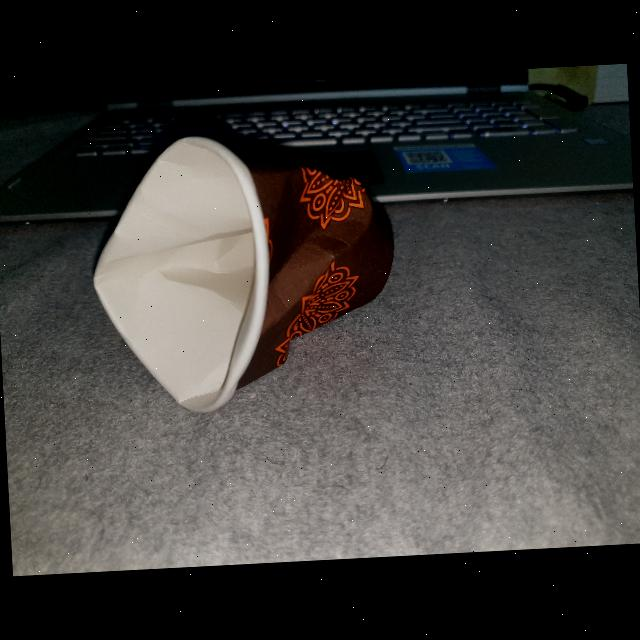trash: (78, 120, 414, 428)
